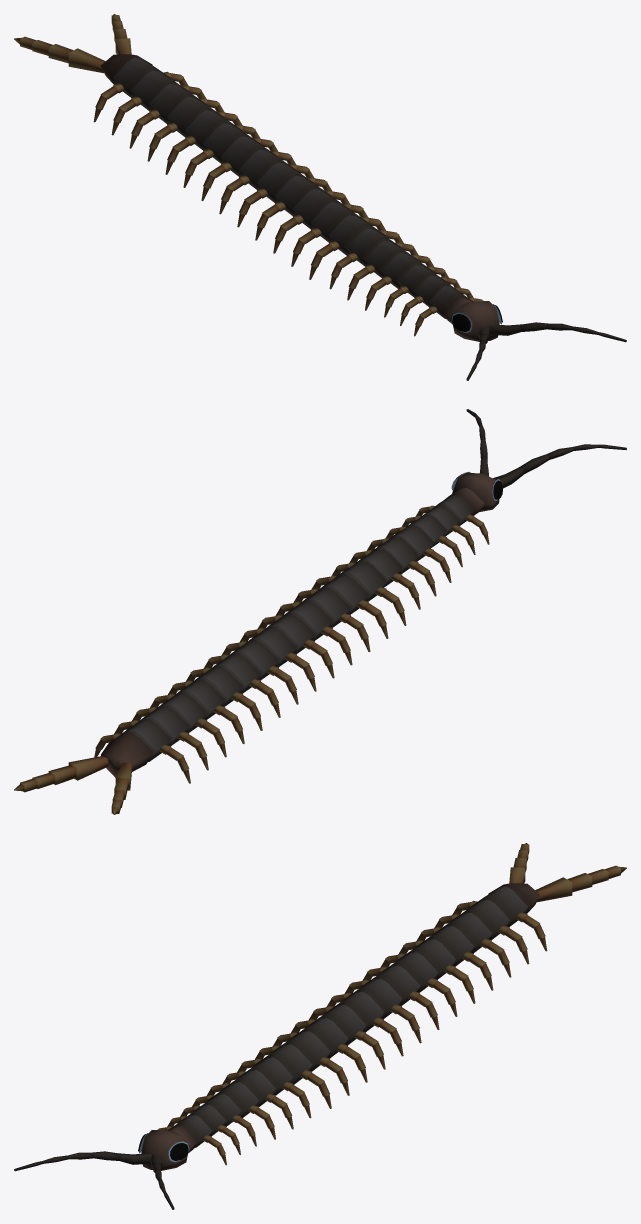
Rendered from animals-insects-centipede_v1.fbx.
3 renders of one model, top to bottom at view 1: azimuth 30°, elevation 25°; view 2: azimuth 150°, elevation 25°; view 3: azimuth 330°, elevation 25°, orthographic.
Parts seen in each view (by area): view 1: Centipede.001; view 2: Centipede.001; view 3: Centipede.001.
Part boxes in pixels (x1,y1,x2,y2): Centipede.001: (14, 14, 626, 380); Centipede.001: (14, 409, 626, 814); Centipede.001: (14, 843, 626, 1209).
Bounding box in the file's own units: 0.5239 × 0.1689 × 2.73.
